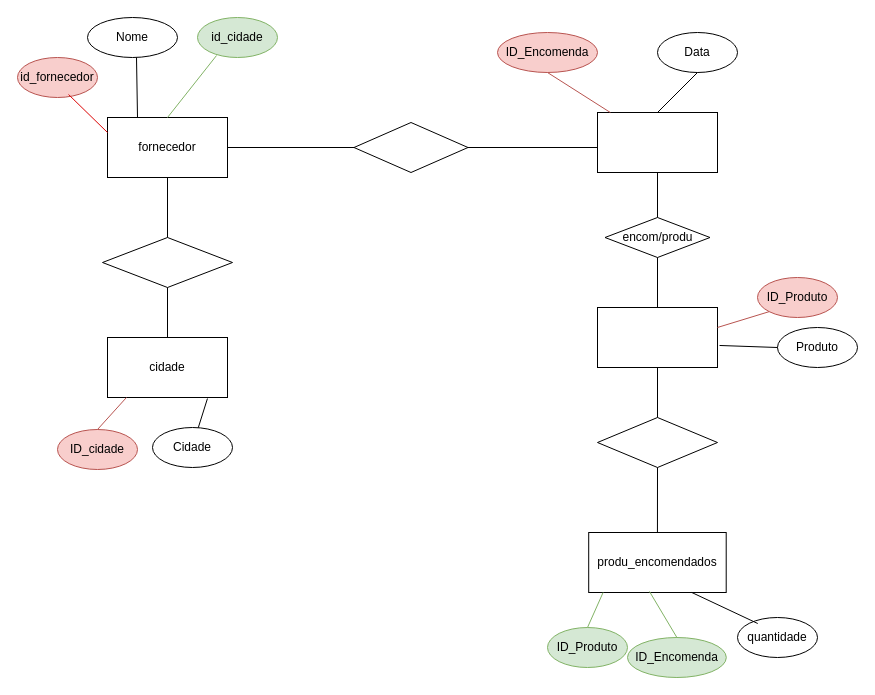
Image size: 875x695. Some labels were removed from this diagram. Here are the shapes that lost their labels. From the top down, the box of each, then its label:
(353, 122, 468, 172): forn/encom
(596, 112, 718, 172): encomendas
(102, 236, 232, 288): cidade/forne
(596, 306, 718, 368): produtos
(596, 416, 718, 468): prod/encom
